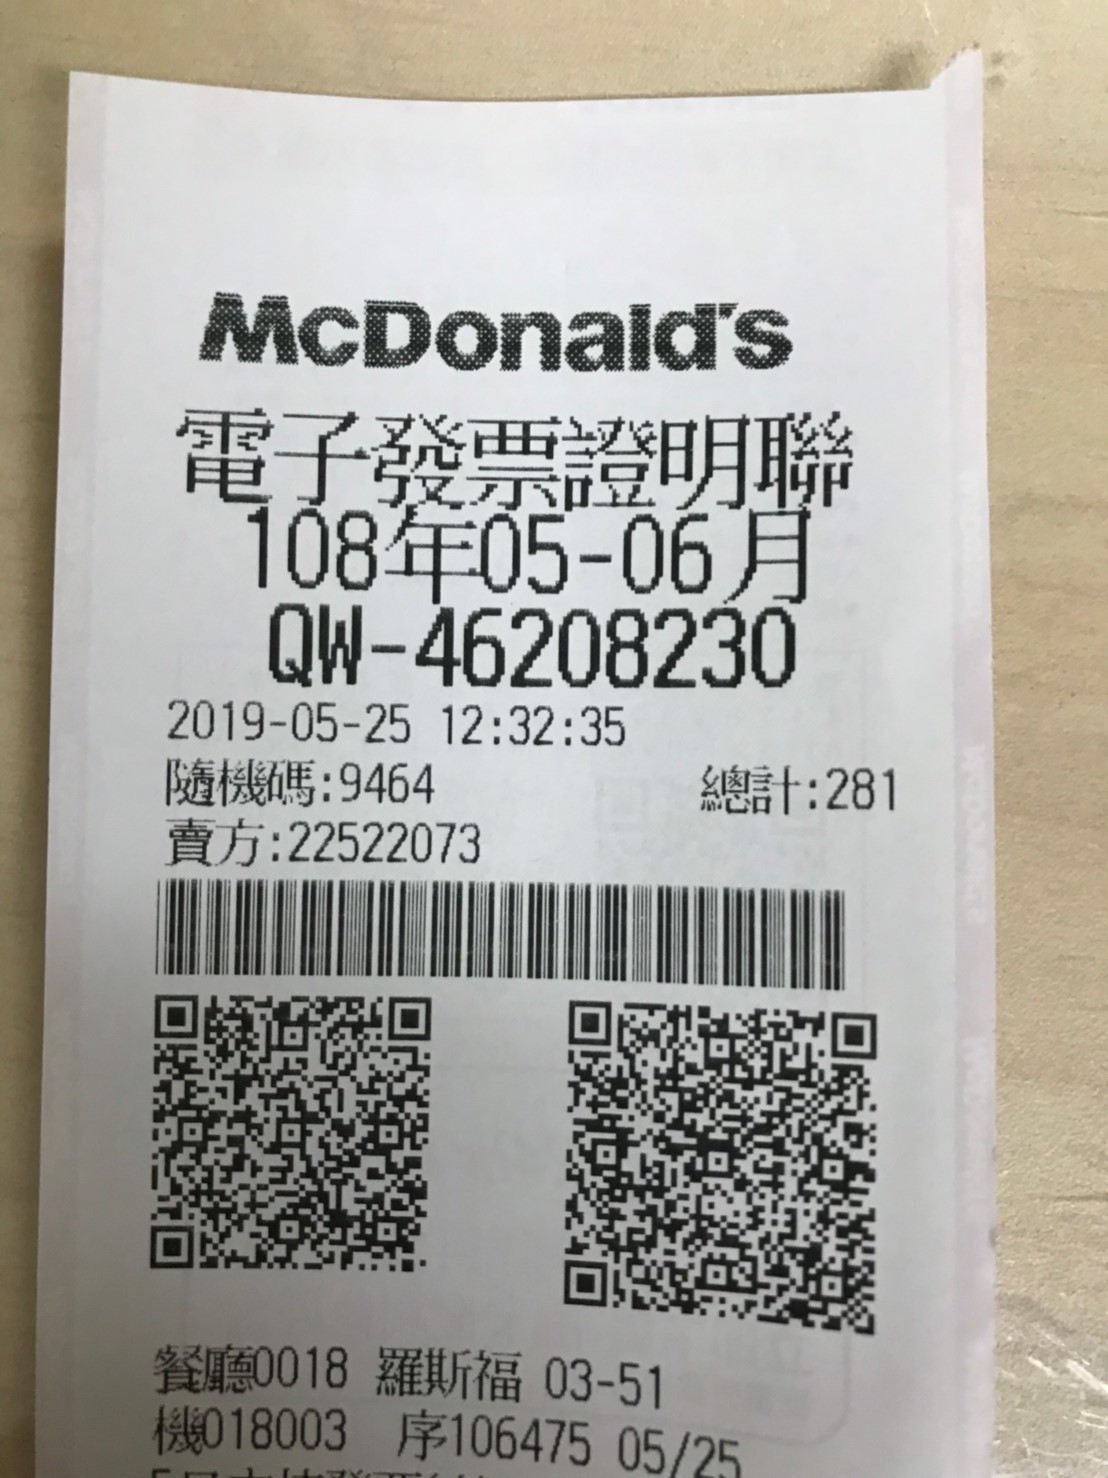Date_New: (242, 498, 818, 607)
Number_New: (417, 603, 800, 696)
